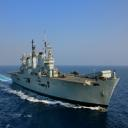Portanaves: (8, 31, 123, 116)
